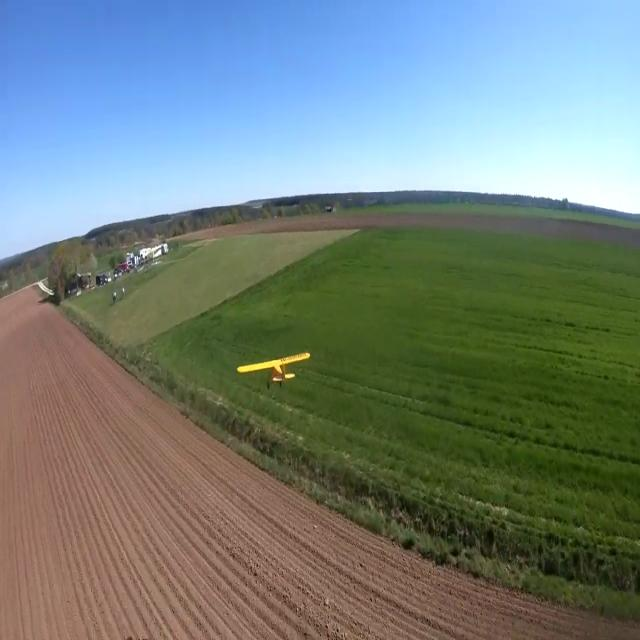iha: (270, 352, 275, 388)
